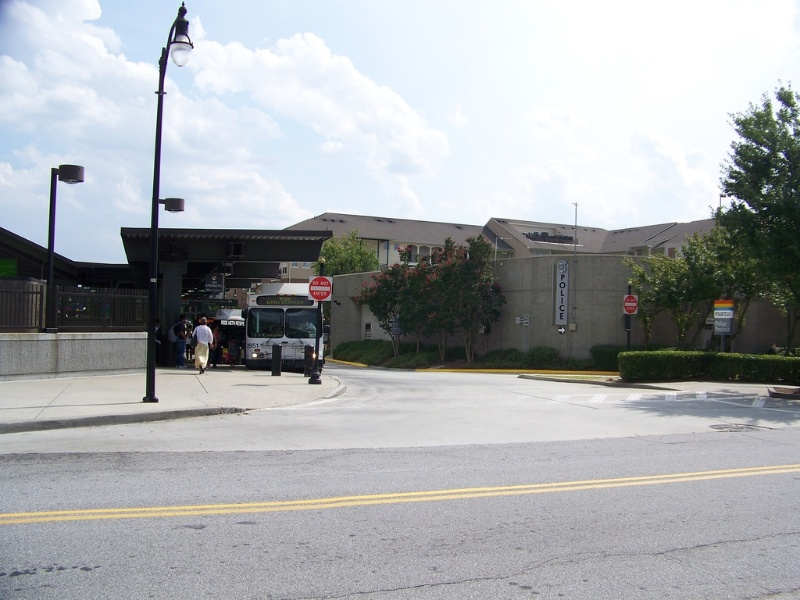no_entry: (307, 273, 335, 303), (623, 294, 640, 315)
